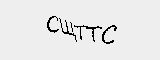С: (100, 21, 117, 47), (44, 11, 60, 35)
Т: (84, 23, 103, 45), (72, 22, 88, 42)
Щ: (59, 17, 78, 42)
